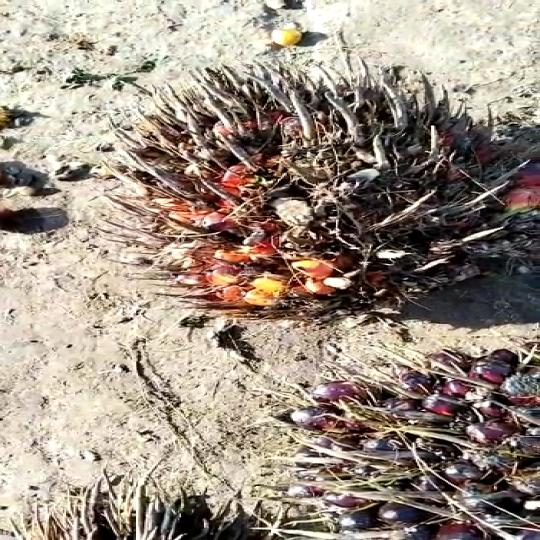terlalu masak: (90, 46, 540, 340)
